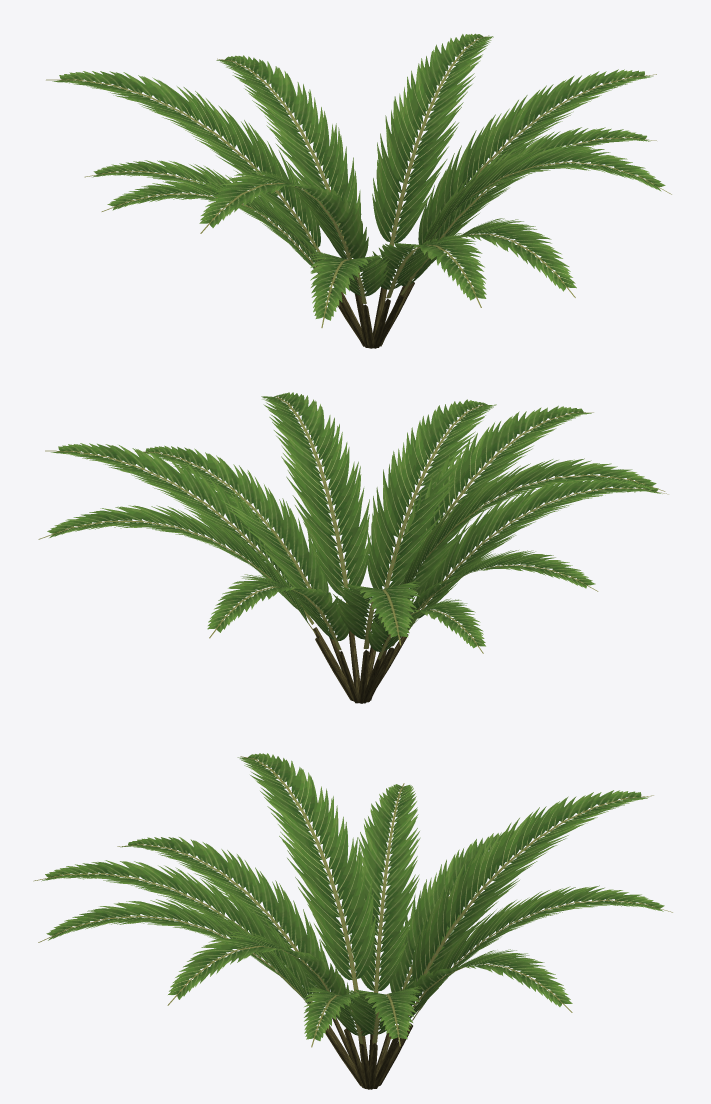
Rendered from golpata_a_lod1.glb.
3 views of the same model, one above another, from view 1: azimuth 30°, elevation 25°; view 2: azimuth 150°, elevation 25°; view 3: azimuth 270°, elevation 25° (orthographic).
Visible parts, largest first — view 1: leaves, wood; view 2: leaves, wood; view 3: leaves, wood.
Boxes of the visible parts, <box> form: leaves: <box>46,33,671,327</box>; wood: <box>328,275,414,348</box>; leaves: <box>38,392,668,659</box>; wood: <box>313,627,408,703</box>; leaves: <box>33,753,672,1047</box>; wood: <box>322,1017,412,1089</box>.
Size of the model in its own units: 11.5 by 4.62 by 11.94.
2 materials, 2 textured.
